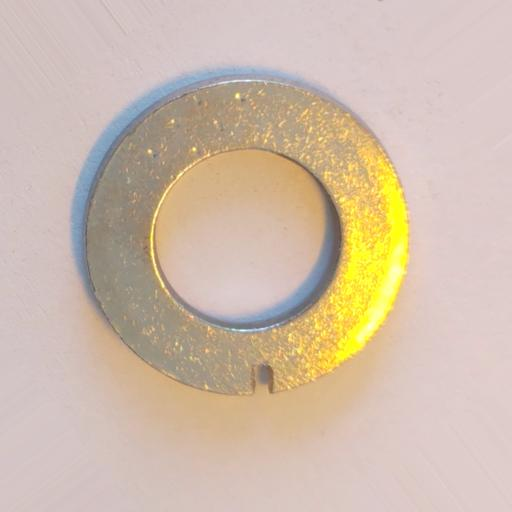burr: (252, 364, 273, 397)
